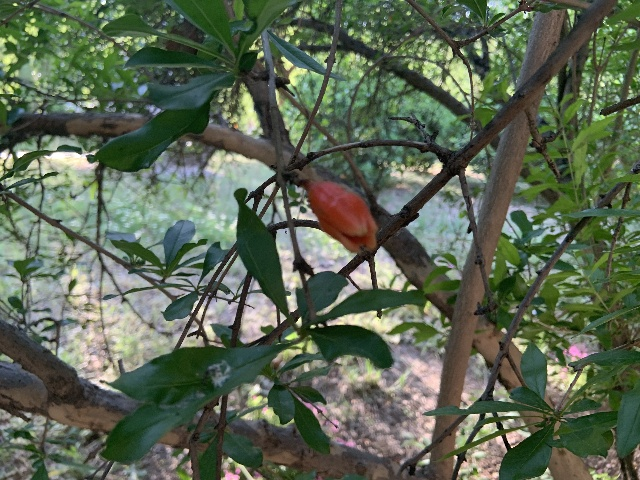flower: (304, 180, 378, 252)
